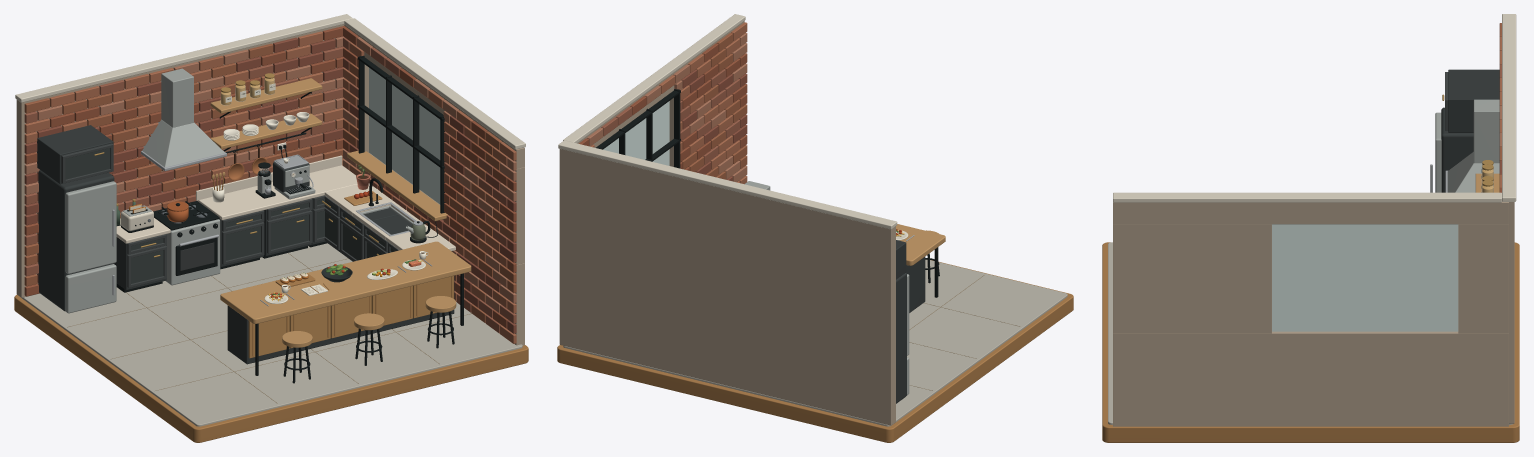
File: sams-brick-kitchen.glb
3 views of the same model, side by side, from view 1: azimuth 30°, elevation 25°; view 2: azimuth 150°, elevation 25°; view 3: azimuth 270°, elevation 25° (orthographic). The views are drawn at different scales.
Parts seen in each view (by area): view 1: Sam's brick-kitchen; view 2: Sam's brick-kitchen; view 3: Sam's brick-kitchen.
Boxes of the visible parts, bbox=[...] form: Sam's brick-kitchen: bbox=[14, 14, 528, 442]; Sam's brick-kitchen: bbox=[557, 14, 1073, 442]; Sam's brick-kitchen: bbox=[1102, 14, 1519, 442].
Bounding box in the file's own units: 6.2 × 3.82 × 5.9.
